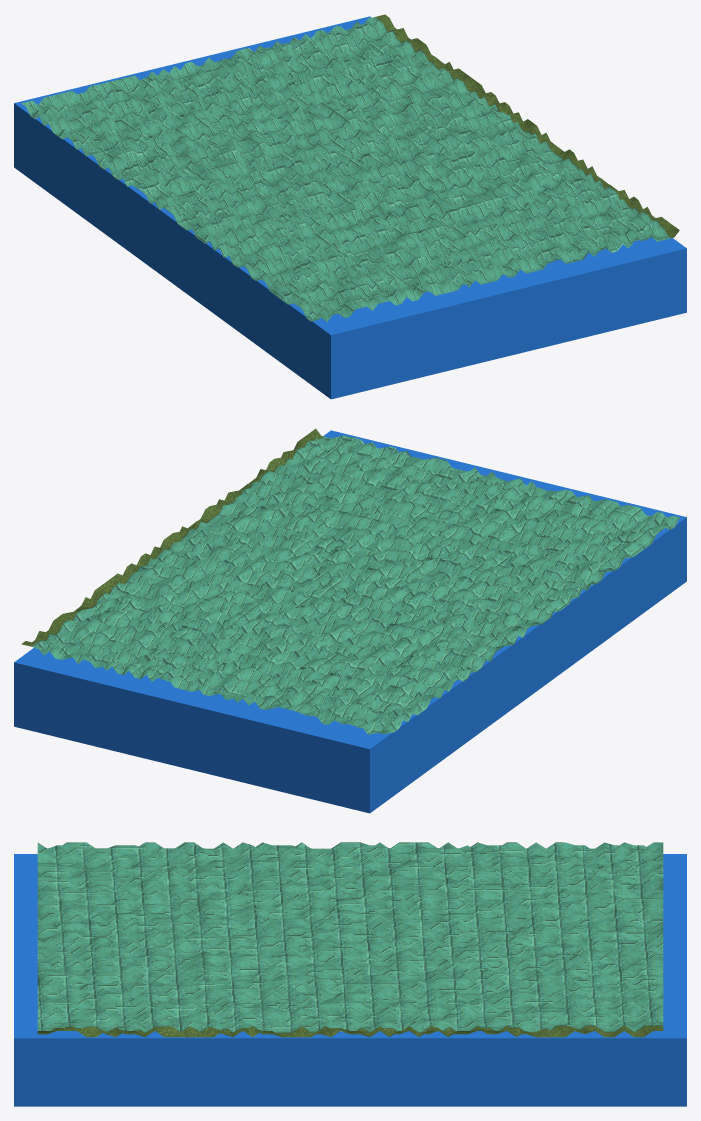
Rendered from Ground.fbx.
The picture shows the model from 3 angles, top to bottom: view 1: azimuth 30°, elevation 25°; view 2: azimuth 150°, elevation 25°; view 3: azimuth 270°, elevation 25°; orthographic projection. The views are drawn at different scales.
Parts seen in each view (by area): view 1: 立方体; view 2: 立方体; view 3: 立方体.
Boxes of the visible parts, <box> form: 立方体: <box>14,14,686,399</box>; 立方体: <box>14,428,686,813</box>; 立方体: <box>14,842,686,1106</box>.
Size of the model in its own units: 11.86 by 2.28 by 17.89.
2 materials, 1 textured.
